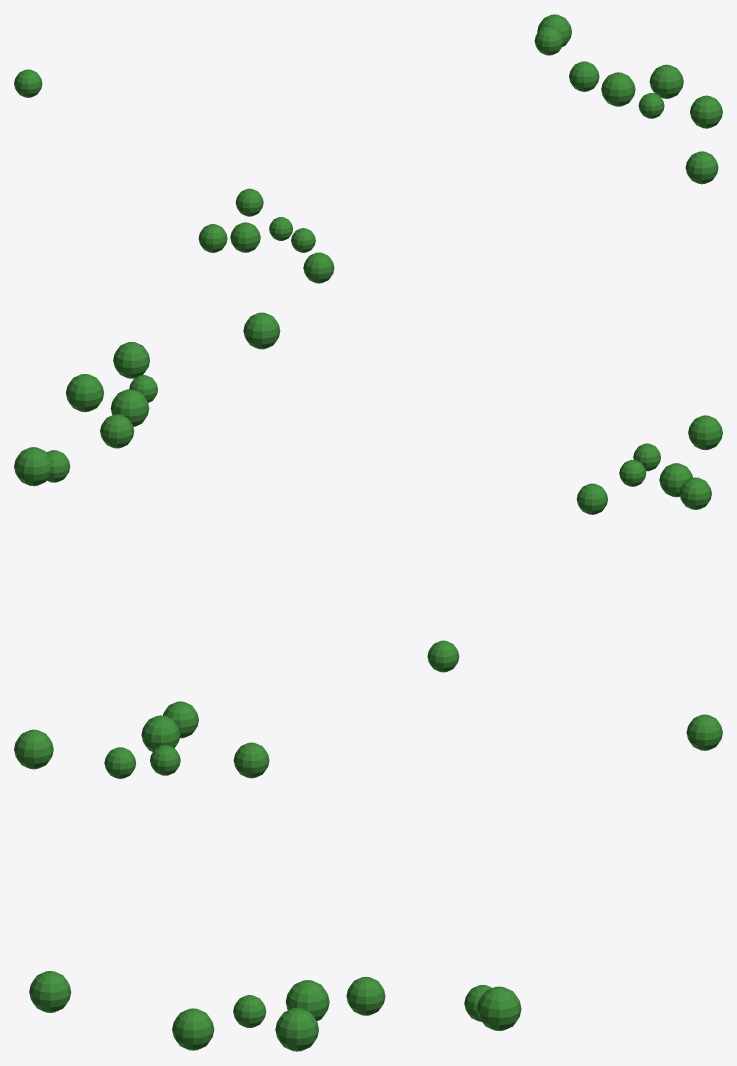
File: TreeCanopy_Leaf.fbx
3 views of the same model, one above another, from view 1: azimuth 30°, elevation 25°; view 2: azimuth 150°, elevation 25°; view 3: azimuth 270°, elevation 25° (orthographic). The views are drawn at different scales.
Visible parts, largest first — view 1: Canopy1.001; view 2: Canopy1.001; view 3: Canopy1.001.
Part boxes in pixels (x1=…): Canopy1.001: x1=14, y1=14, x2=722, y2=283; Canopy1.001: x1=14, y1=312, x2=722, y2=672; Canopy1.001: x1=14, y1=701, x2=722, y2=1051.
Bounding box in the file's own units: 25824 × 1484 × 23538.
